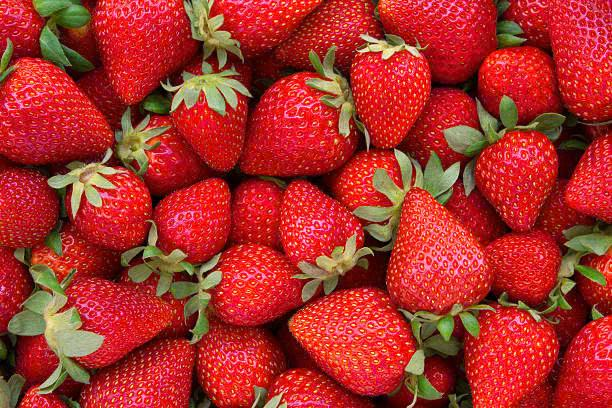strawberry: (288, 283, 428, 405), (382, 185, 496, 321), (234, 71, 364, 176), (0, 55, 116, 165), (48, 271, 173, 373), (92, 0, 202, 110), (462, 300, 565, 408), (374, 2, 507, 82), (472, 119, 562, 234), (277, 174, 368, 279), (349, 39, 433, 148), (203, 243, 315, 321), (171, 62, 250, 172), (543, 0, 612, 125), (60, 165, 156, 252), (195, 314, 280, 408), (152, 178, 231, 257), (205, 0, 325, 52)
